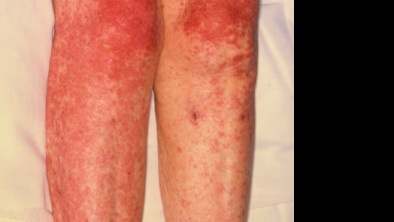SJS-TEN: (35, 0, 171, 222), (178, 0, 266, 135)
